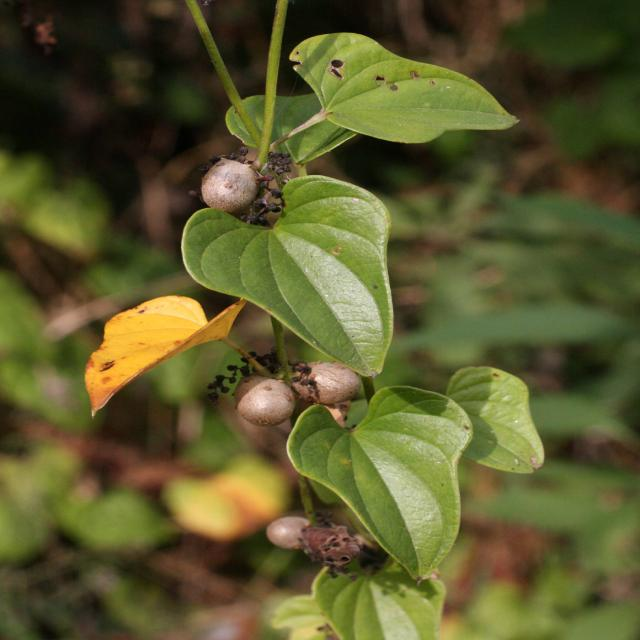Yam: (272, 374, 612, 619), (133, 177, 453, 362), (106, 12, 478, 166)
